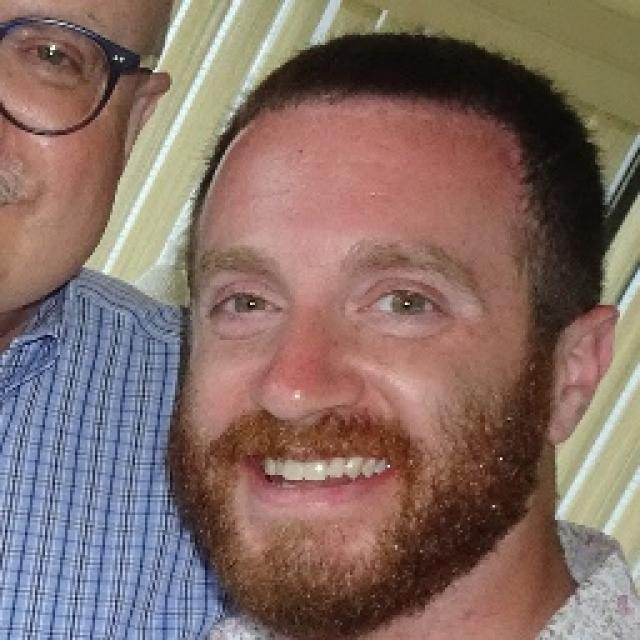earlobe: (544, 305, 621, 446), (118, 67, 172, 178)
